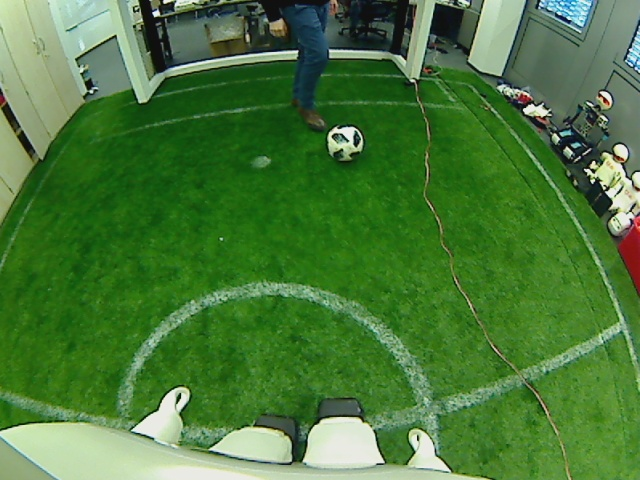ball: (325, 124, 363, 161)
